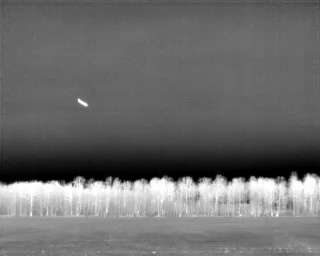DRONE: (74, 94, 92, 112)
